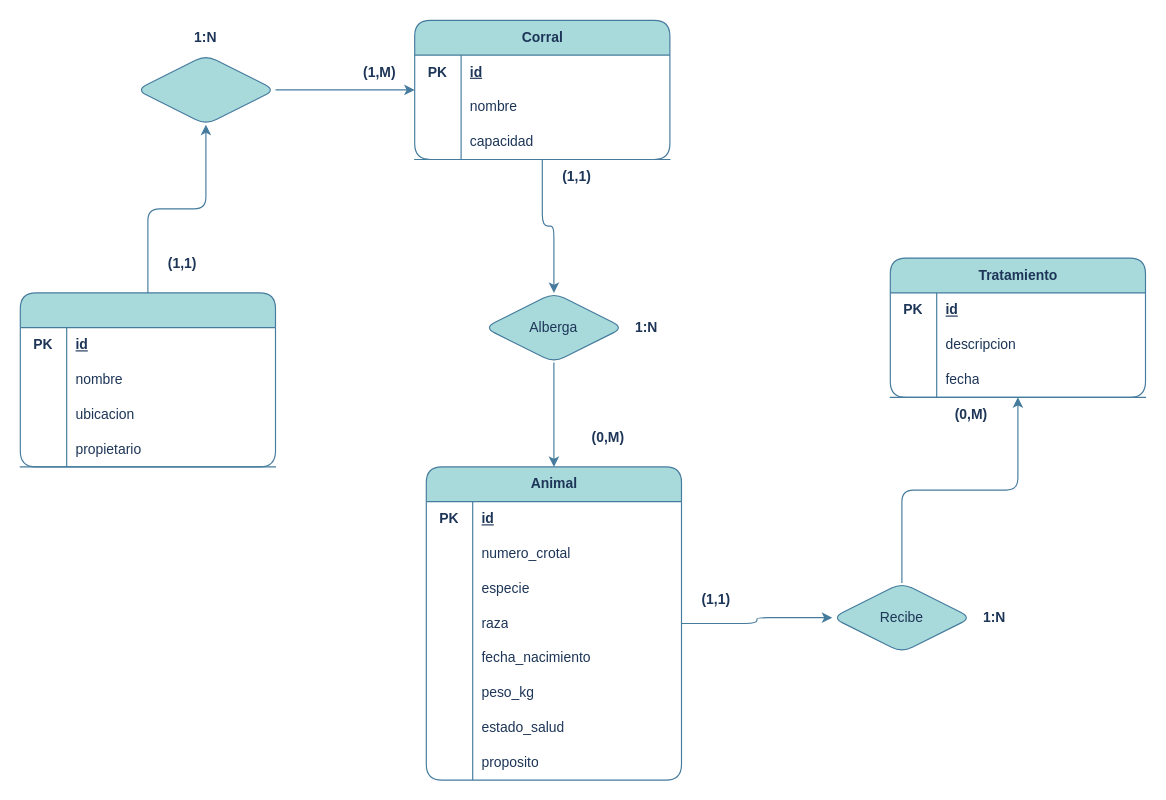
Image size: 1166x800. Some labels were removed from this diagram. The shapes that lost their labels are listed below. From the top down, each one's box as (x1, y1, x2, y2) in pixels, then its label:
(135, 54, 276, 125): Contiene
(19, 292, 276, 467): Granja
